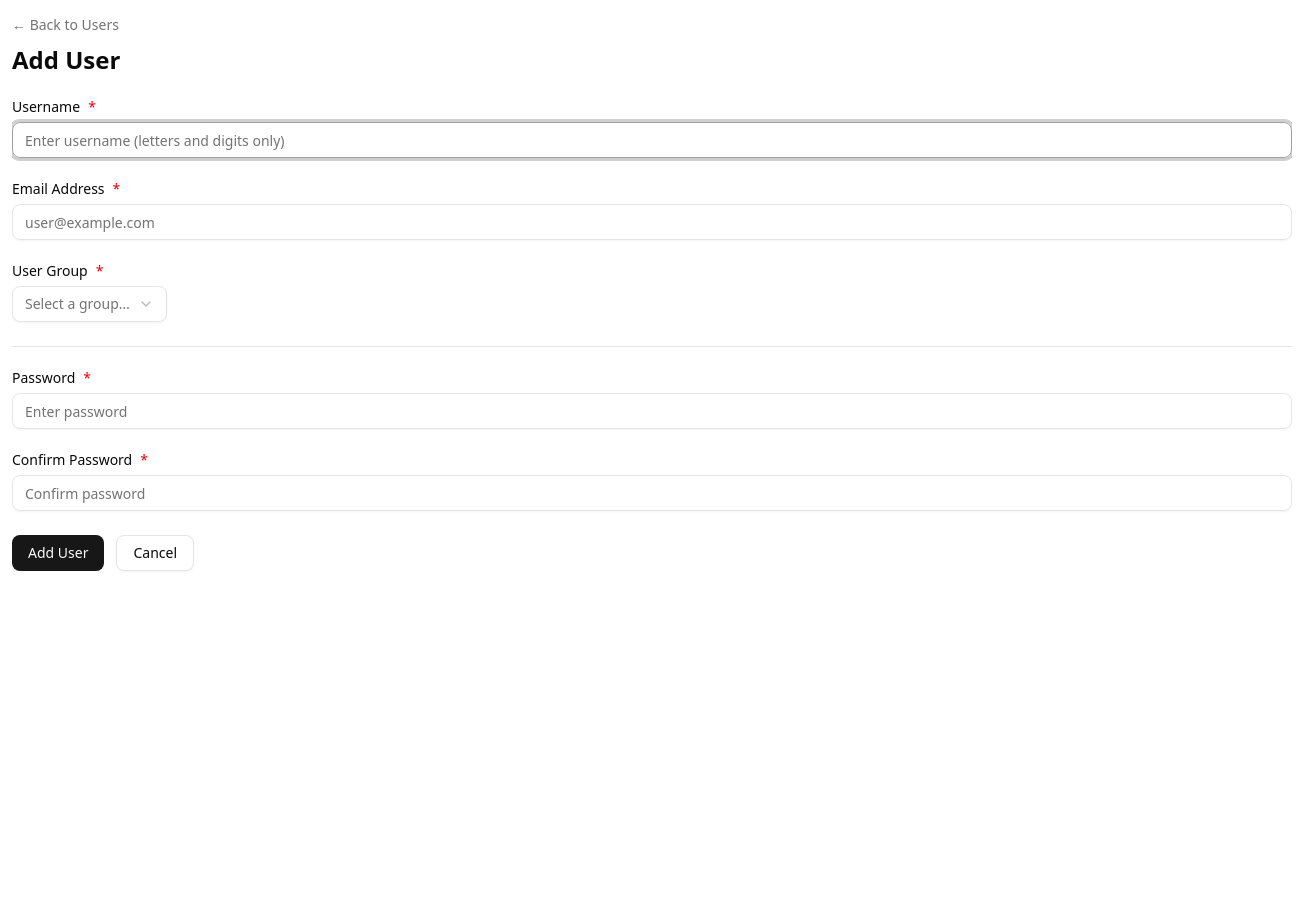
Test case: AdminUserFormPage — Add mode › shows validation error for invalid username format
The width and height of the screenshot is (1304, 912).
Type "bad user!" into the field labelled "Username *" at (652, 140), box x1=12 y1=122 x2=1292 y2=158
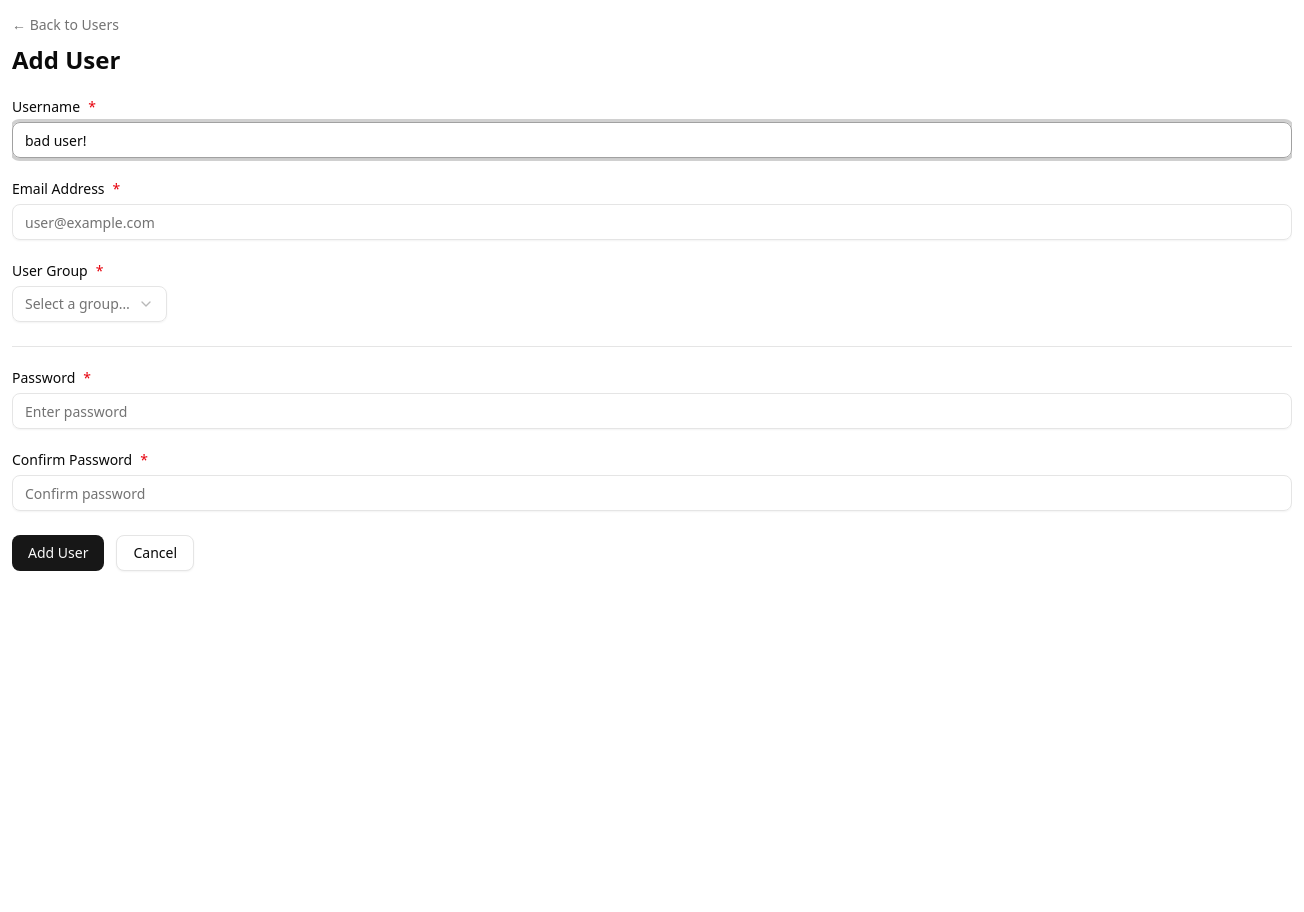
Click the button "Add User" at (58, 553), box x1=12 y1=535 x2=104 y2=571
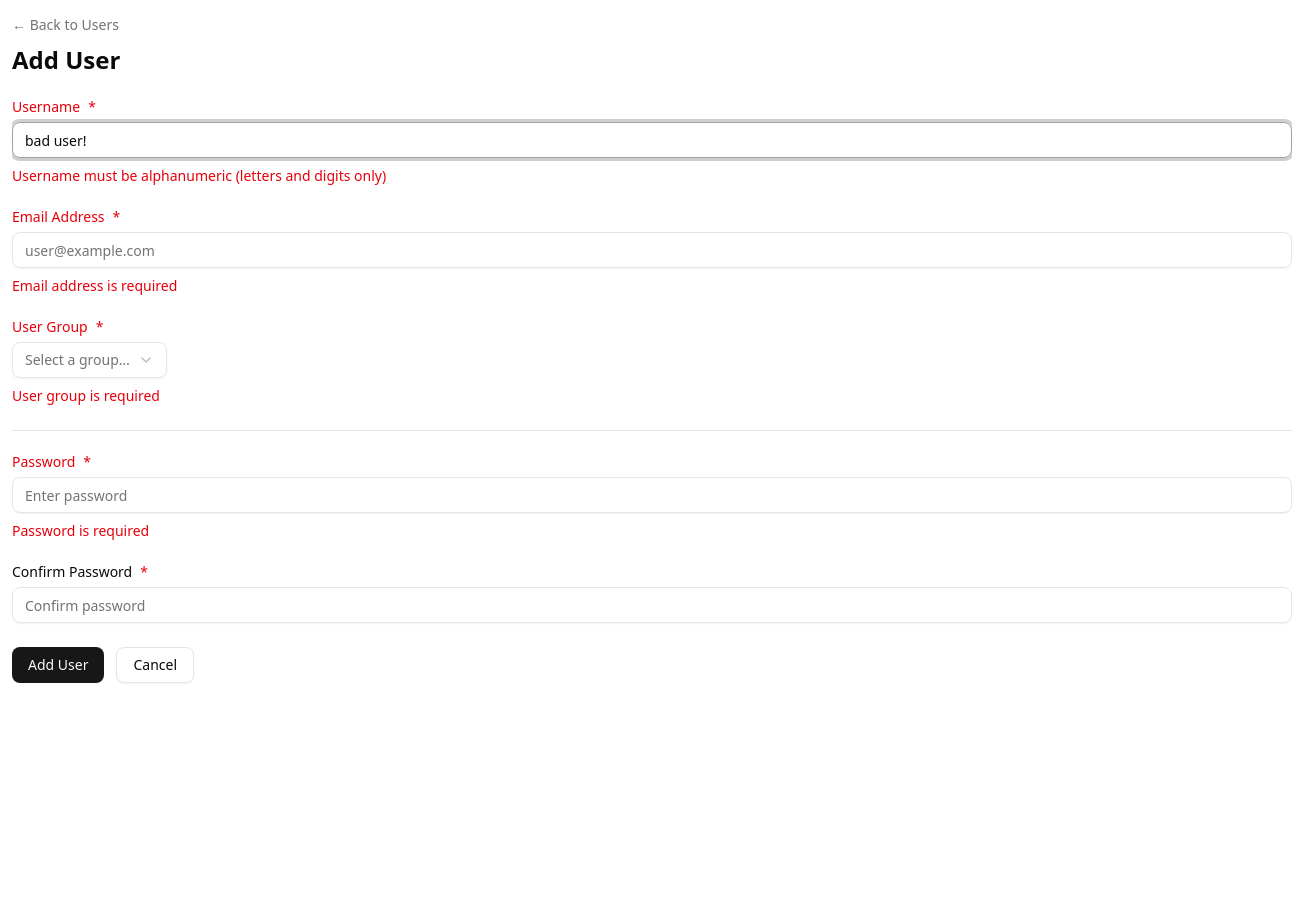
Check: the text "Username must be alphanumeric (letters and digits only)" is shown, box x1=12 y1=166 x2=386 y2=185
